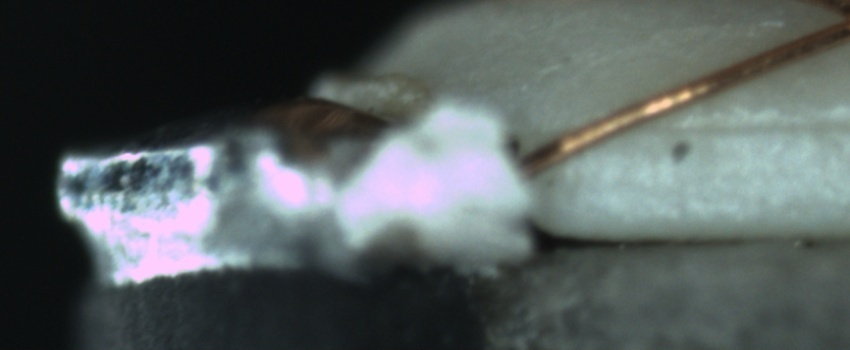CL: (809, 2, 849, 43)
DL: (632, 89, 850, 164)
